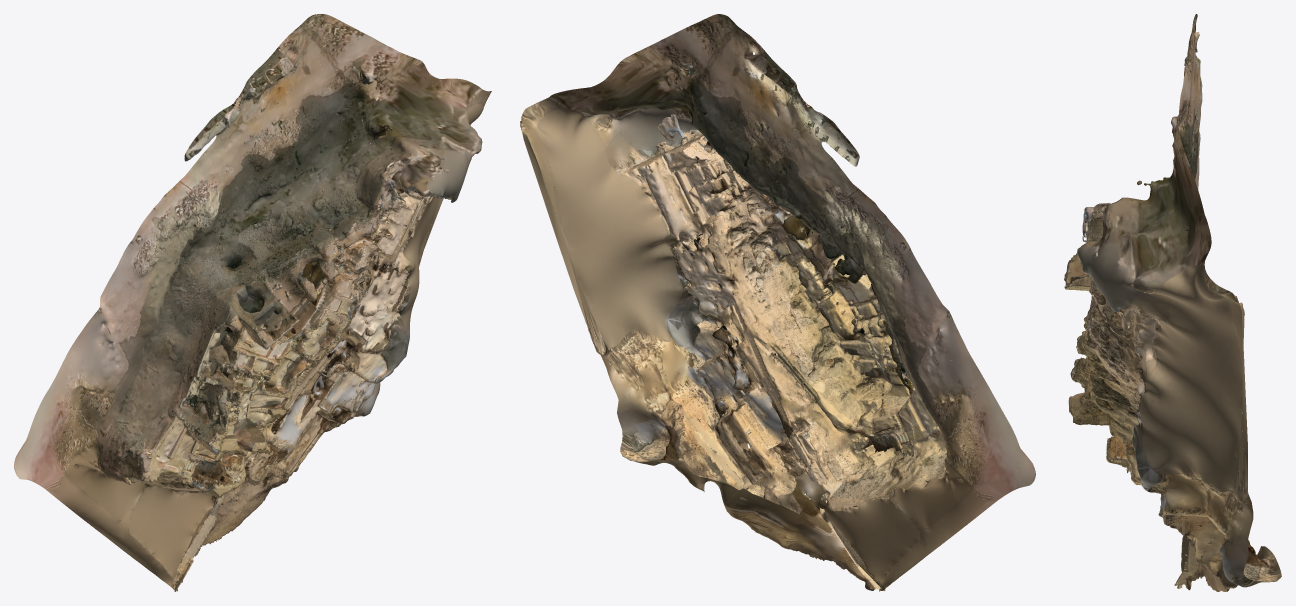
The model's file is beaufort-optimized.glb.
The picture shows the model from 3 angles, left to right: view 1: azimuth 30°, elevation 25°; view 2: azimuth 150°, elevation 25°; view 3: azimuth 270°, elevation 25°; orthographic projection. The views are drawn at different scales.
Parts seen in each view (by area): view 1: Object_4, Object_21, Object_5, Object_18, Object_2, Object_25, Object_16, Object_11; view 2: Object_4, Object_21, Object_25, Object_5, Object_2, Object_18, Object_16, Object_11, Object_10; view 3: Object_25, Object_5, Object_21, Object_4, Object_2, Object_18, Object_16.
Boxes of the visible parts, x1,y1,x2,y2 form: Object_4: (76, 37, 482, 591); Object_21: (22, 14, 491, 589); Object_5: (124, 77, 488, 591); Object_18: (94, 53, 440, 591); Object_2: (43, 127, 417, 575); Object_25: (45, 103, 484, 589); Object_16: (14, 125, 449, 582); Object_11: (128, 486, 214, 581); Object_4: (585, 39, 966, 590); Object_21: (520, 14, 1024, 591); Object_25: (522, 108, 998, 590); Object_5: (540, 83, 945, 590); Object_2: (617, 113, 999, 590); Object_18: (600, 45, 921, 591); Object_16: (639, 112, 1035, 590); Object_11: (821, 498, 921, 584); Object_10: (742, 328, 904, 513); Object_25: (1064, 197, 1247, 565); Object_5: (1068, 47, 1248, 585); Object_21: (1070, 14, 1280, 587); Object_4: (1066, 25, 1253, 591); Object_2: (1075, 180, 1281, 591); Object_18: (1065, 130, 1237, 590); Object_16: (1064, 183, 1225, 590).
Bounding box in the file's own units: 35.34 × 36.94 × 11.04.
Materials: 9 (9 with a texture image).
